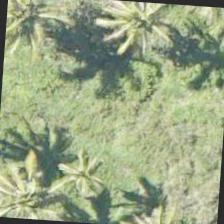Kelapa_Sawit: (35, 131, 132, 223), (89, 0, 184, 69), (0, 159, 66, 222), (4, 0, 67, 57)
